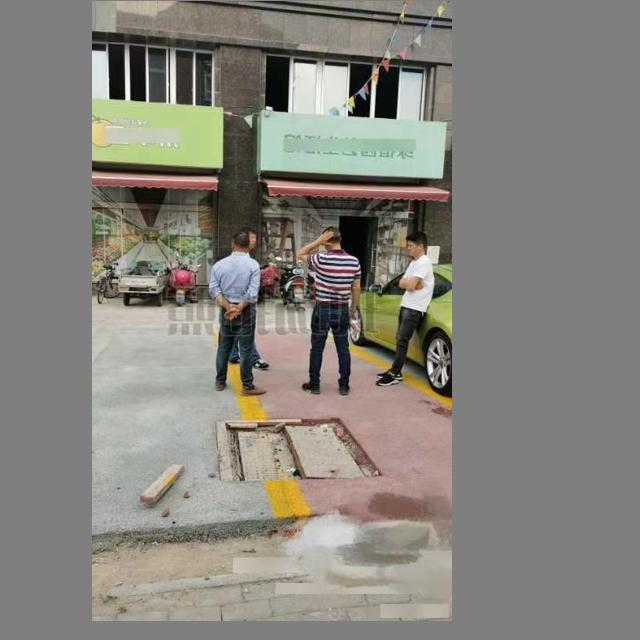circle: (217, 418, 375, 484)
